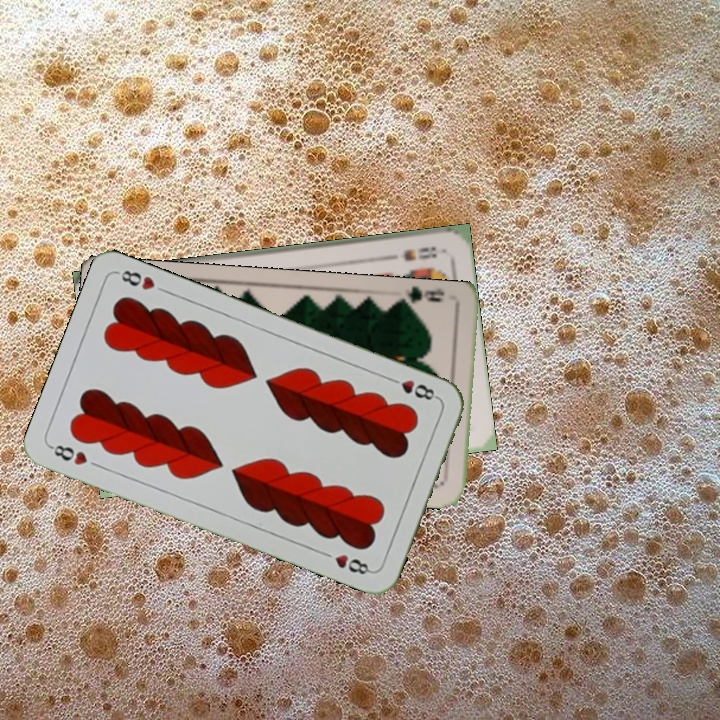G9: (395, 285, 447, 312)
H8: (384, 373, 441, 403), (47, 440, 90, 468)
S8: (398, 242, 439, 264)
